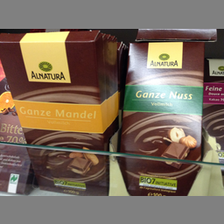chocolate: (1, 31, 108, 193), (120, 43, 205, 195)
